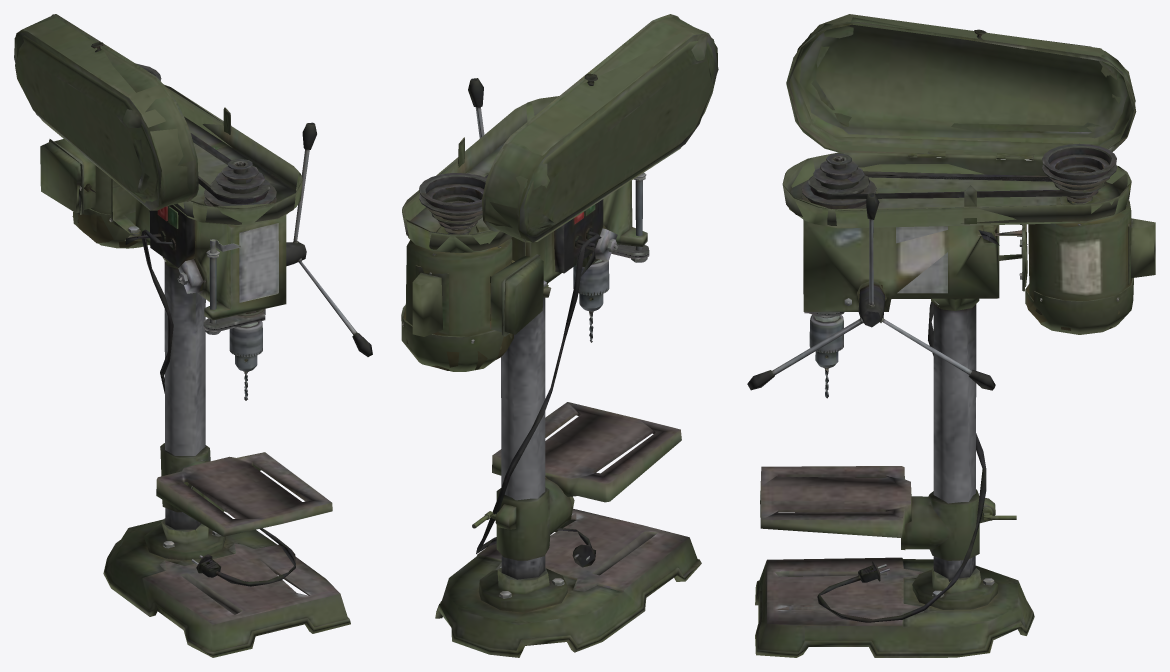
File: drill_press_01.glb
3 views of the same model, side by side, from view 1: azimuth 30°, elevation 25°; view 2: azimuth 150°, elevation 25°; view 3: azimuth 270°, elevation 25° (orthographic). The views are drawn at different scales.
Parts seen in each view (by area): view 1: drill_press_01, drill_press_01_lid, drill_press_01_plate, drill_press_01_gear_b, drill_press_01_plug, drill_press_01_handle, drill_press_01_limiter, drill_press_01_bit, drill_press_01_belt; view 2: drill_press_01, drill_press_01_lid, drill_press_01_plate, drill_press_01_gear_a, drill_press_01_plug, drill_press_01_bit, drill_press_01_limiter, drill_press_01_handle; view 3: drill_press_01, drill_press_01_lid, drill_press_01_plate, drill_press_01_handle, drill_press_01_gear_a, drill_press_01_belt, drill_press_01_gear_b, drill_press_01_plug, drill_press_01_bit.
Part boxes in pixels (<box>): drill_press_01: <box>40,84,350,657</box>; drill_press_01_lid: <box>14,14,198,210</box>; drill_press_01_plate: <box>156,443,332,536</box>; drill_press_01_gear_b: <box>204,158,276,206</box>; drill_press_01_plug: <box>141,229,295,586</box>; drill_press_01_handle: <box>286,122,372,356</box>; drill_press_01_limiter: <box>203,239,265,334</box>; drill_press_01_bit: <box>229,321,262,400</box>; drill_press_01_belt: <box>190,133,267,204</box>; drill_press_01: <box>401,96,701,657</box>; drill_press_01_lid: <box>482,14,718,242</box>; drill_press_01_plate: <box>492,402,681,560</box>; drill_press_01_gear_a: <box>419,173,486,234</box>; drill_press_01_plug: <box>476,231,601,567</box>; drill_press_01_bit: <box>573,259,609,342</box>; drill_press_01_limiter: <box>611,173,649,262</box>; drill_press_01_handle: <box>468,78,484,138</box>; drill_press_01: <box>755,152,1155,657</box>; drill_press_01_lid: <box>786,14,1136,160</box>; drill_press_01_plate: <box>760,466,995,560</box>; drill_press_01_handle: <box>747,193,995,390</box>; drill_press_01_gear_a: <box>1042,143,1116,203</box>; drill_press_01_belt: <box>810,171,1092,199</box>; drill_press_01_gear_b: <box>801,153,876,208</box>; drill_press_01_plug: <box>817,301,986,622</box>; drill_press_01_bit: <box>809,314,843,398</box>.
Bounding box in the file's own units: 0.3541 × 0.9011 × 0.5948.
1 material, 1 textured.
